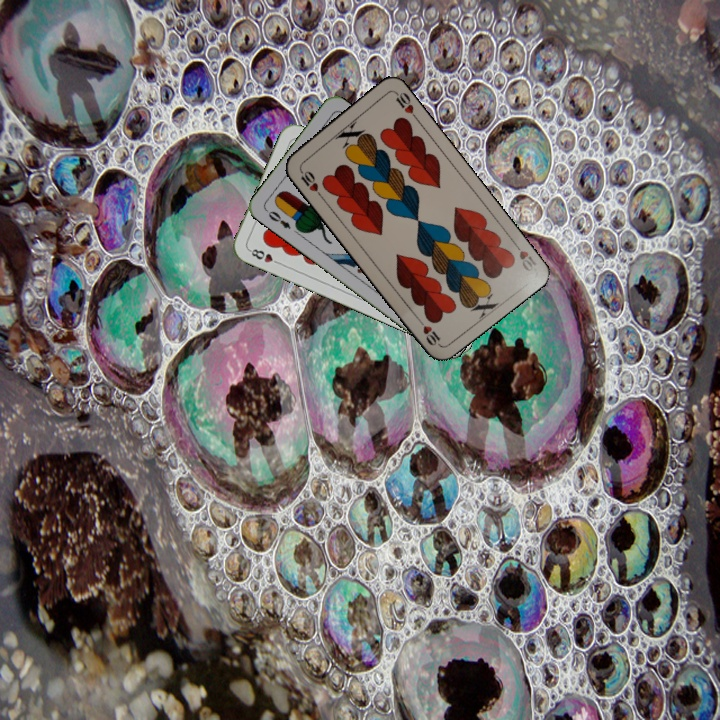EO: (262, 206, 293, 232)
H10: (508, 237, 539, 274), (295, 164, 324, 199)
H8: (245, 245, 284, 267)
